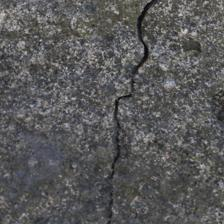Crack: (53, 2, 105, 220)
